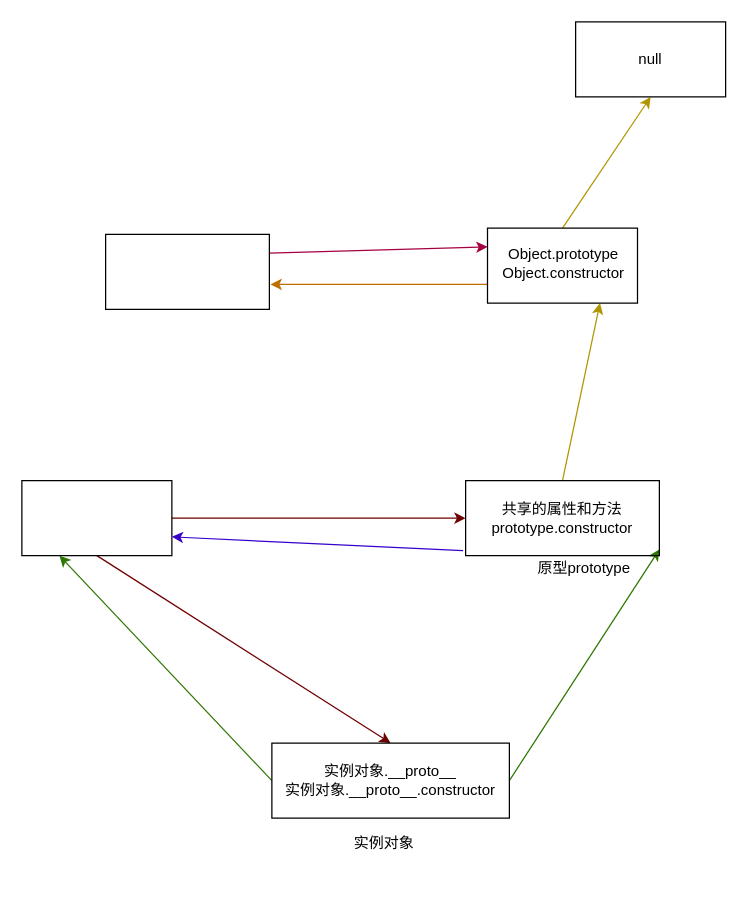
Image size: 748x903. Some labels were removed from this diagram. The centre of each missing label's shape, as x and y in pixels:
"function Star(){} 构造函数" belongs at (96,517).
"Object" belongs at (186,271).
